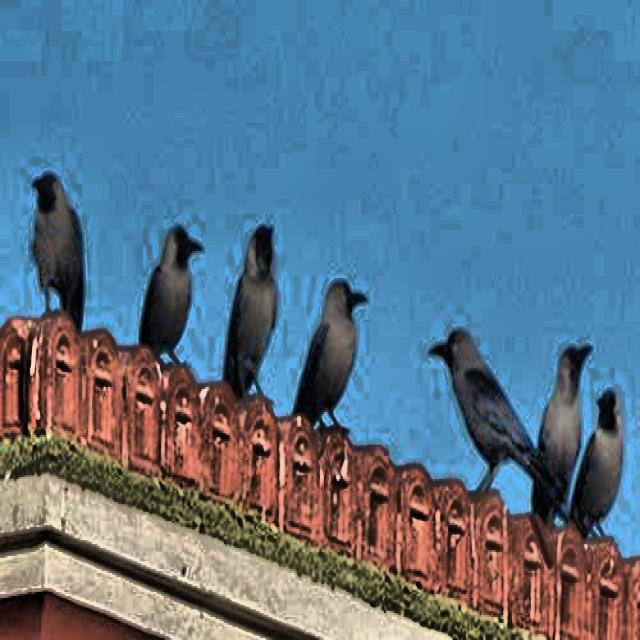crow: (19, 158, 630, 574)
